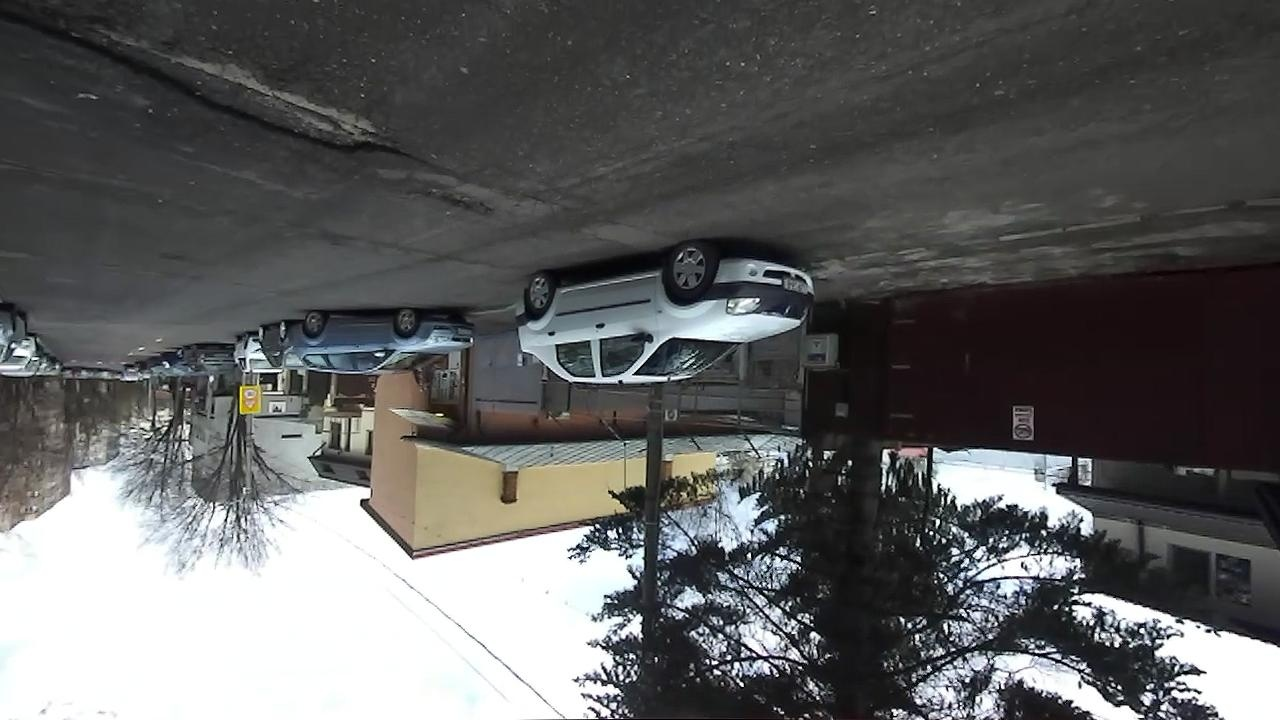pothole: (0, 1, 433, 168), (403, 183, 503, 220)
